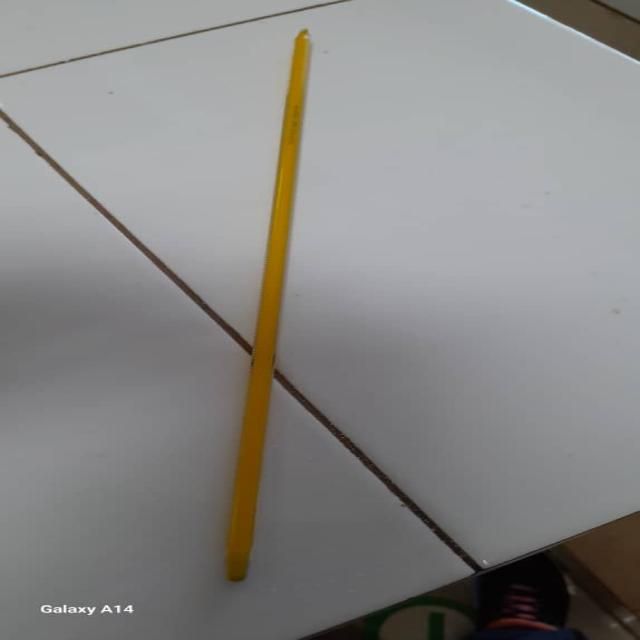Thermometer: (217, 28, 334, 584)
